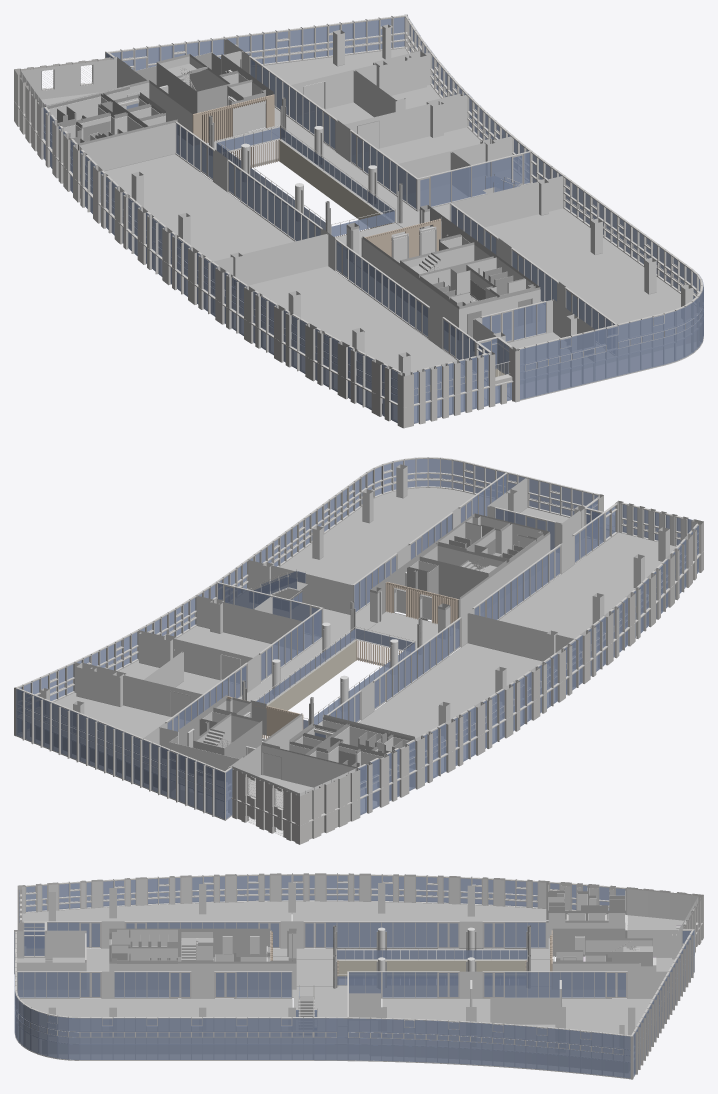
The picture shows the model from 3 angles, top to bottom: view 1: azimuth 30°, elevation 25°; view 2: azimuth 150°, elevation 25°; view 3: azimuth 270°, elevation 25°; orthographic projection. The views are drawn at different scales.
Parts seen in each view (by area): view 1: A6-3F; view 2: A6-3F; view 3: A6-3F.
Boxes of the visible parts, bbox=[...] form: A6-3F: bbox=[14, 14, 703, 428]; A6-3F: bbox=[14, 457, 703, 844]; A6-3F: bbox=[14, 873, 703, 1079].
Bounding box in the file's own units: 36.39 × 5.81 × 64.74.
